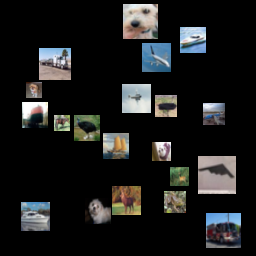airplane: (198, 156, 236, 194), (142, 43, 171, 72), (122, 84, 151, 113), (203, 103, 225, 125)
bird: (74, 115, 100, 141), (155, 95, 177, 117)
deer: (112, 186, 141, 215), (170, 167, 189, 186)
dog: (123, 4, 158, 39), (85, 198, 111, 224), (152, 142, 171, 161), (26, 82, 42, 98)
frog: (164, 191, 186, 213)
ship: (21, 202, 50, 231), (103, 133, 129, 159), (180, 27, 206, 53), (22, 102, 48, 128)
